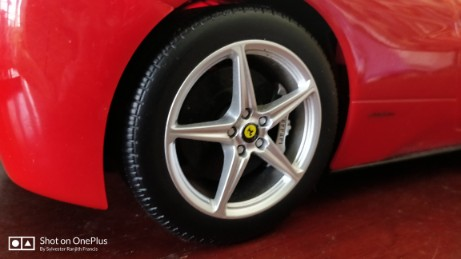aligned_wheel: (114, 2, 343, 248)
